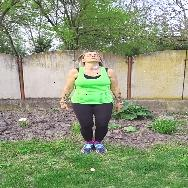high_jumps: (37, 40, 133, 158)
